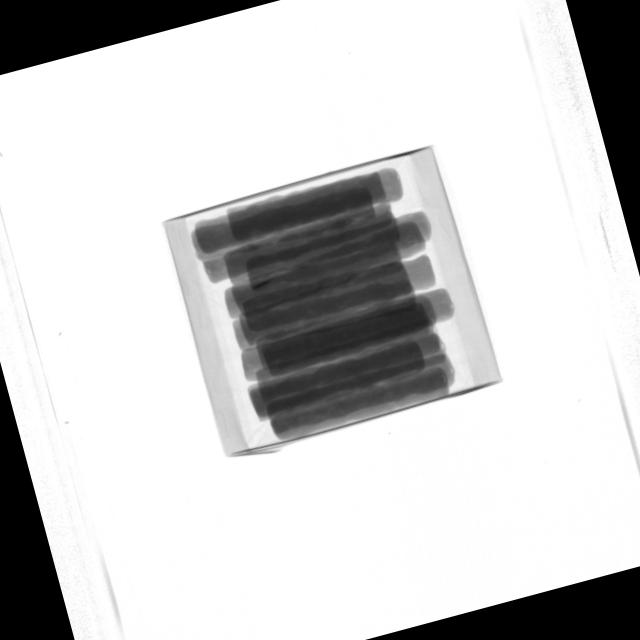ym: (251, 279, 273, 290)
